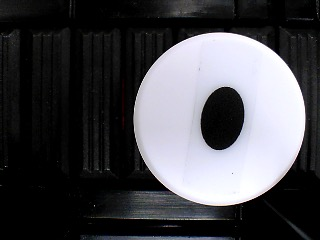BOHOEL: (133, 31, 307, 206)
